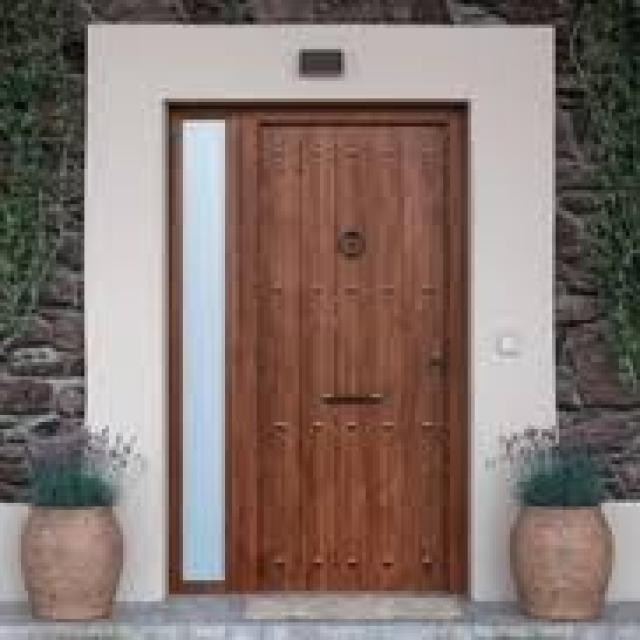door: (228, 108, 464, 594)
